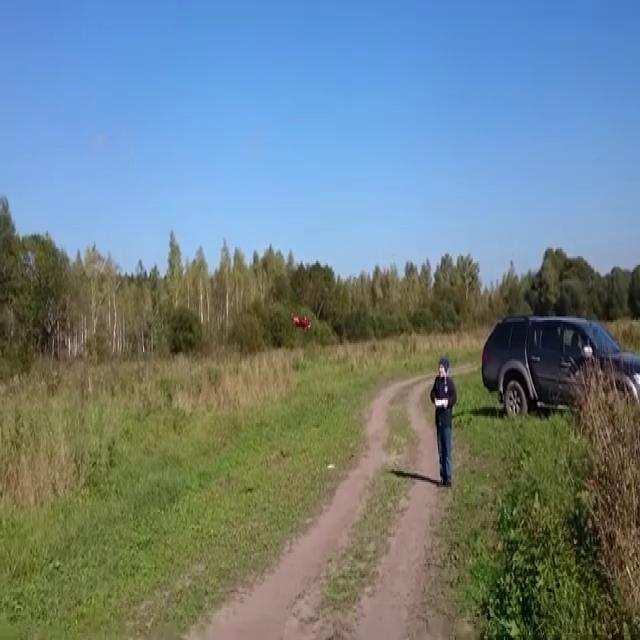Drons: (288, 312, 314, 334)
